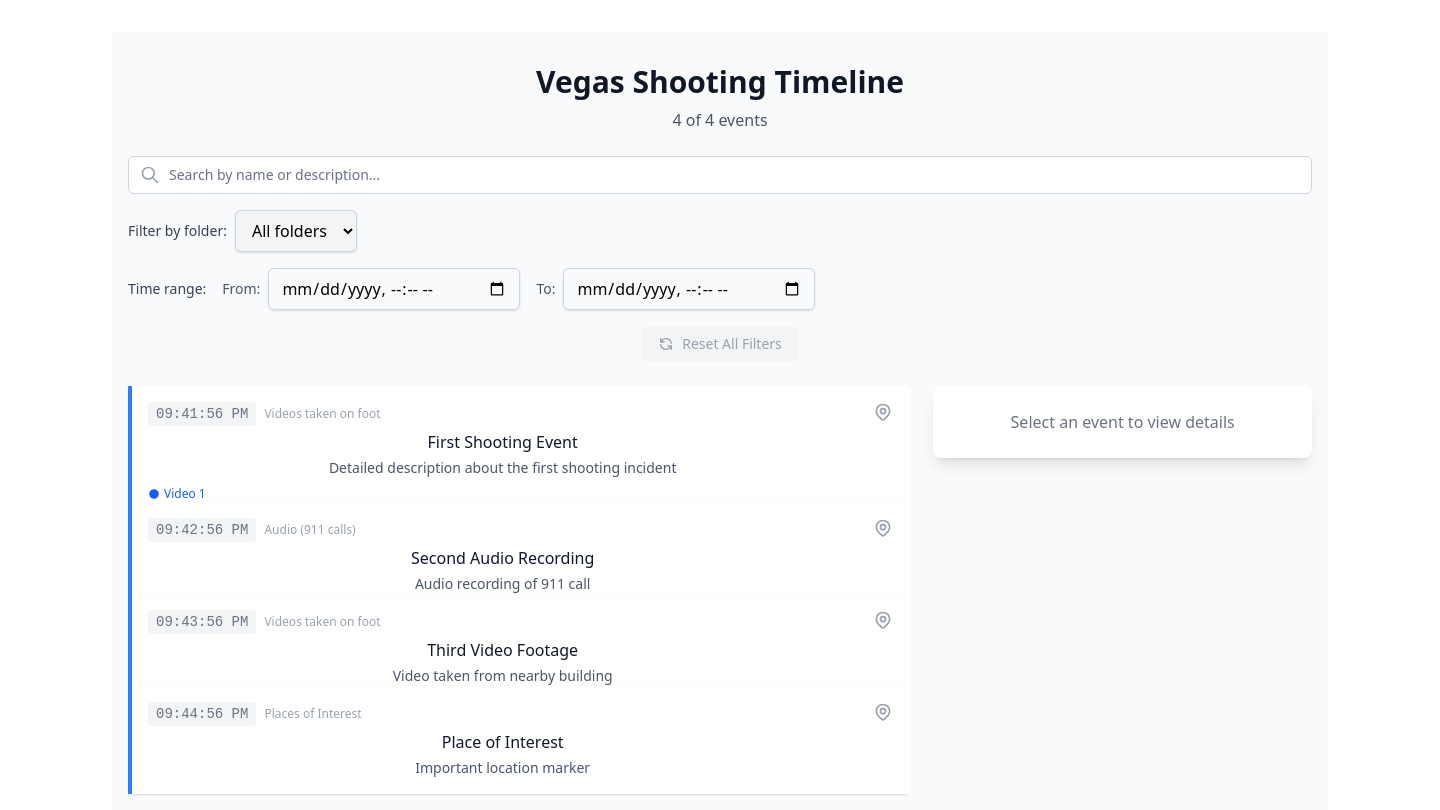
Test: Timeline - Search Filter with Debounce › filters events by name after debounce delay
The image size is (1440, 810).
Expected: the heading "First Shooting Event" is shown, [428, 431, 578, 453]
Note: Type search text
Type "shooting" into the field with placeholder "Search by name or description..." at (720, 175), box [128, 156, 1312, 194]
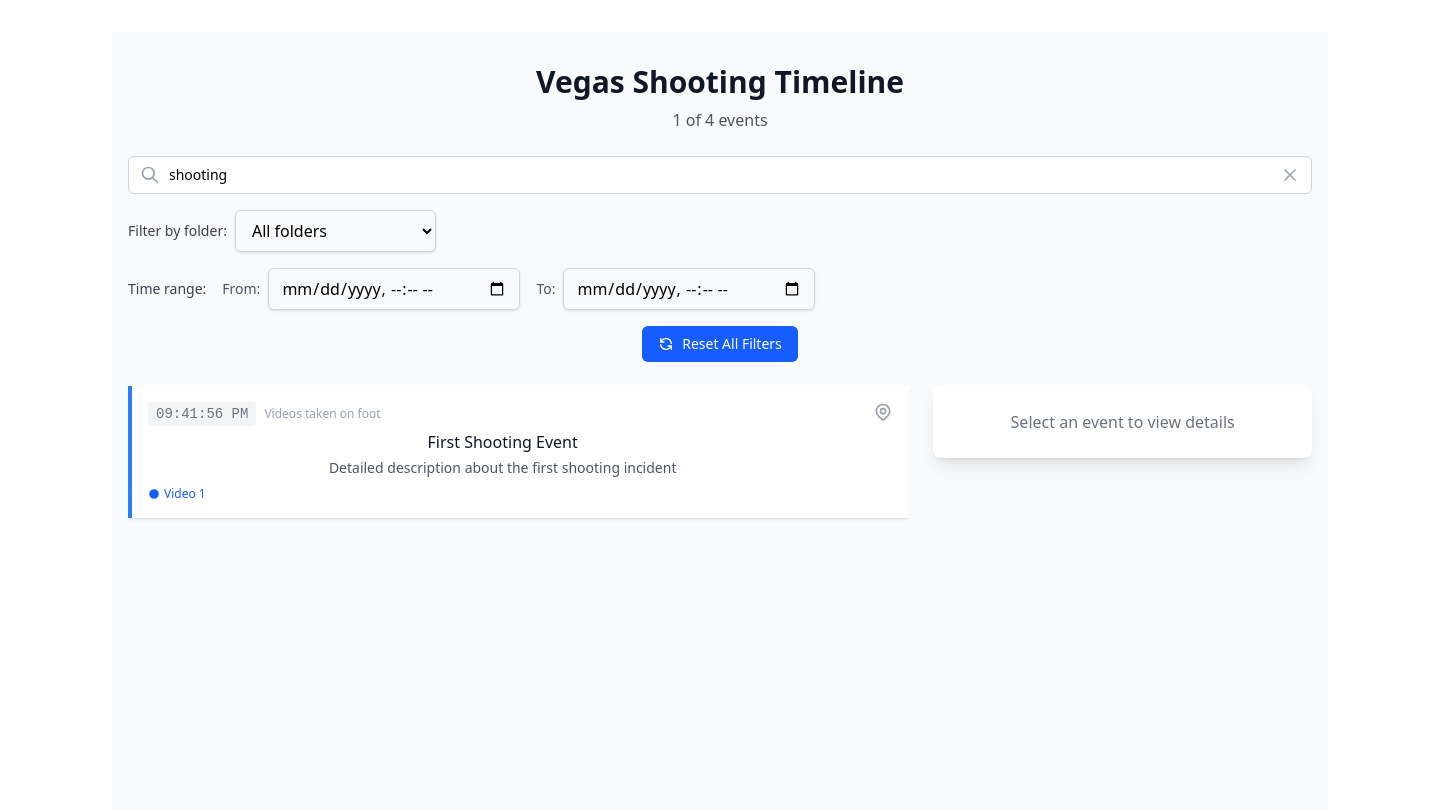
Expected: the heading "Second Audio Recording" is gone
Expected: the heading "Third Video Footage" is gone
Expected: the heading "Place of Interest" is gone
